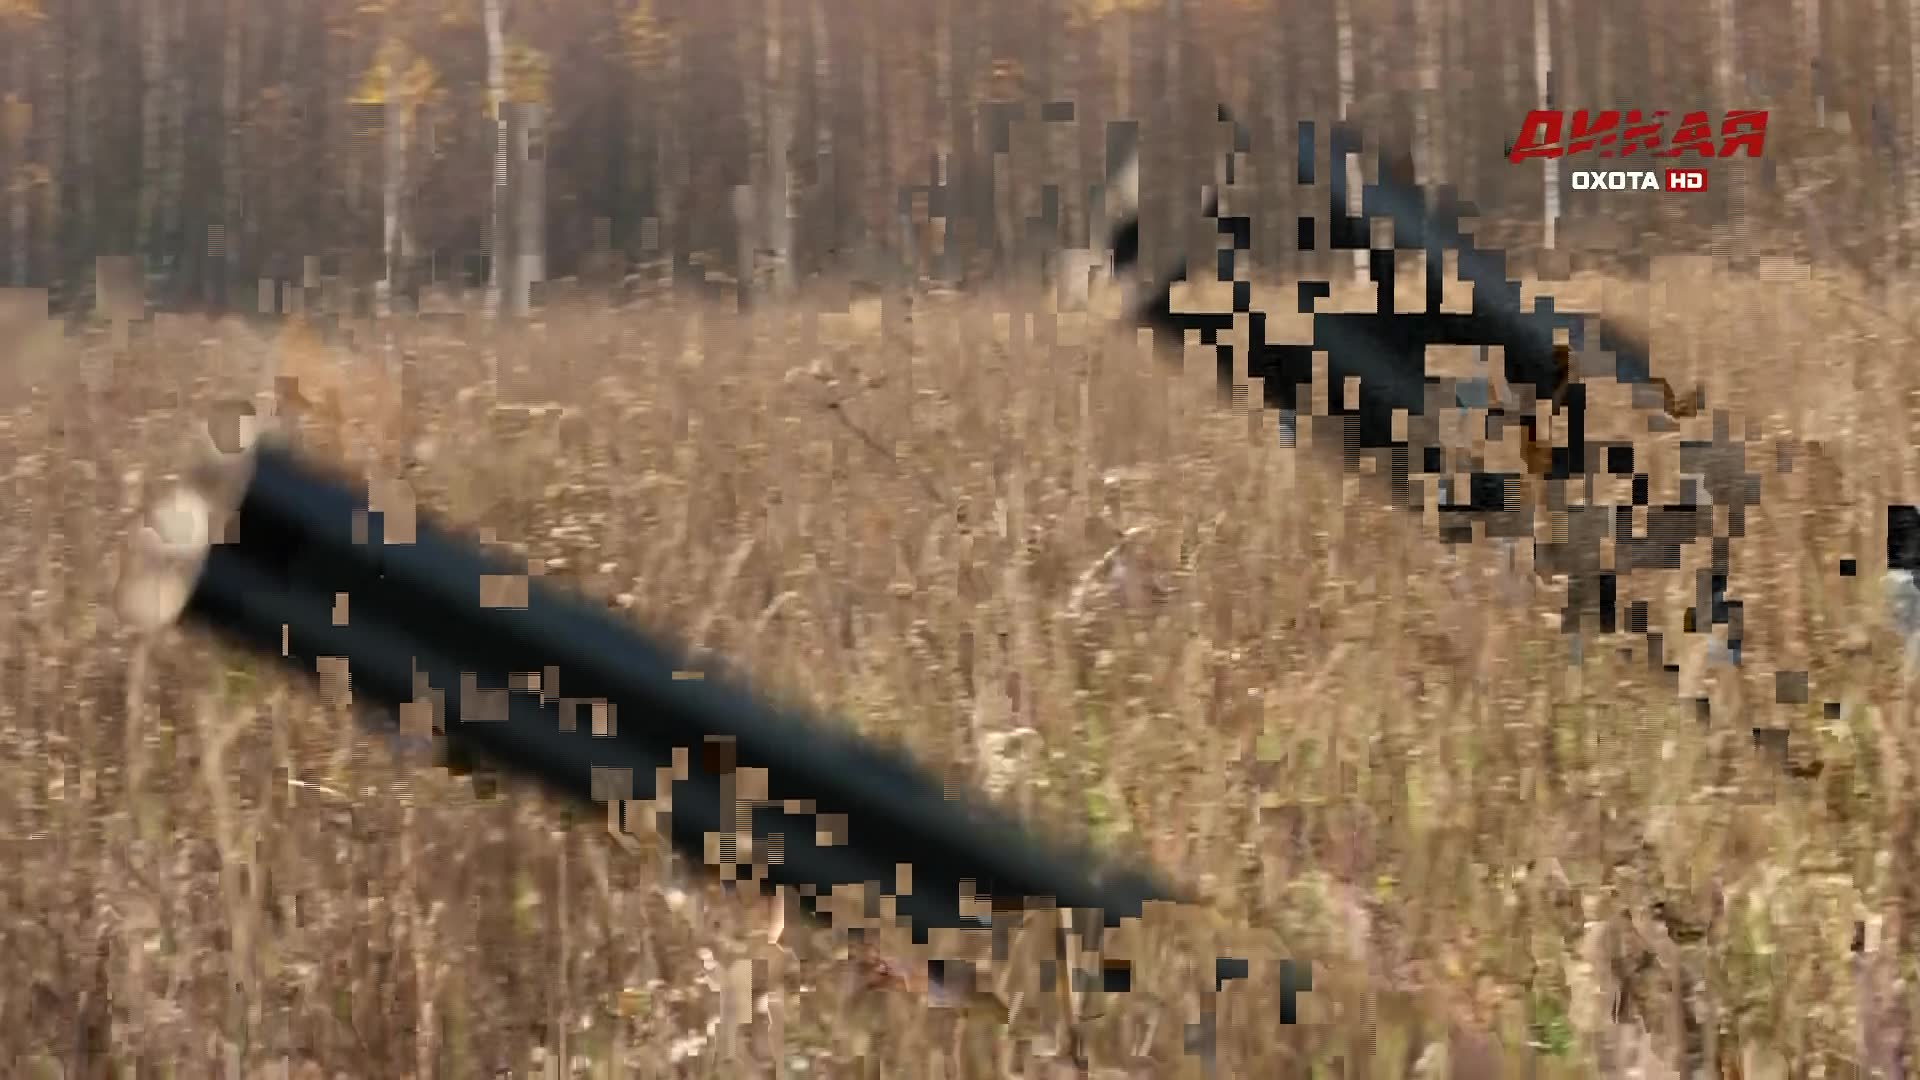Dikaya_Ohota_HD: (1509, 109, 1774, 196)
